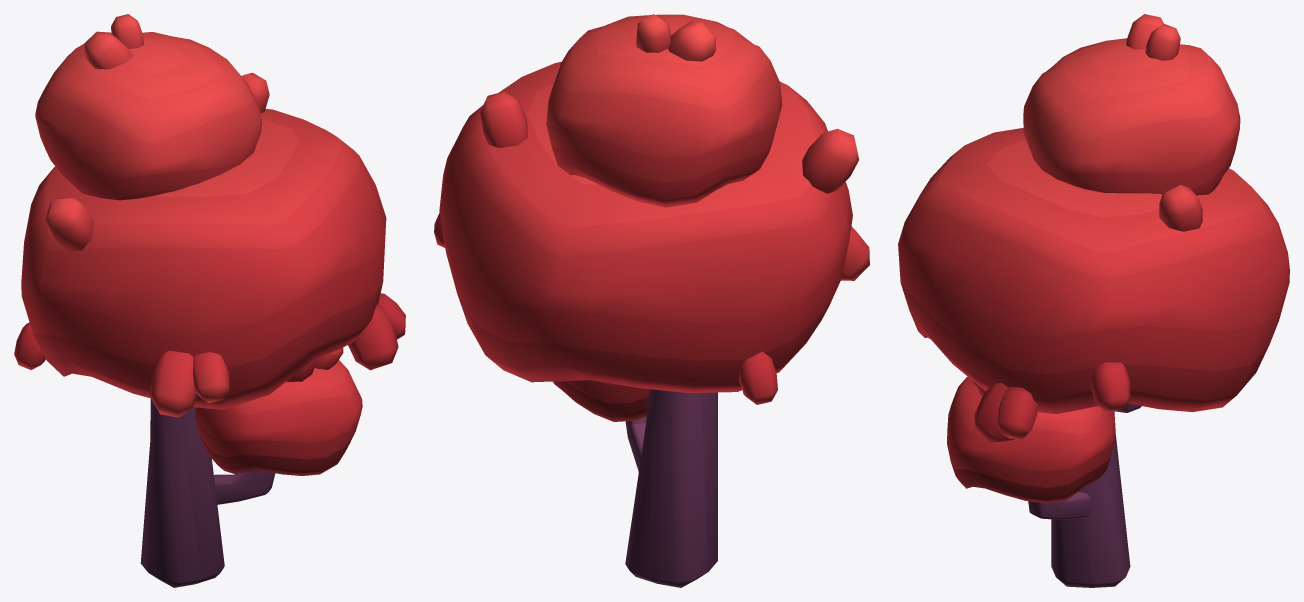
Rendered from grassland_tree_col3_2.fbx.
3 views of the same model, side by side, from view 1: azimuth 30°, elevation 25°; view 2: azimuth 150°, elevation 25°; view 3: azimuth 270°, elevation 25° (orthographic). The views are drawn at different scales.
Parts seen in each view (by area): view 1: grassland_tree_col3_2; view 2: grassland_tree_col3_2; view 3: grassland_tree_col3_2.
Part boxes in pixels (bbox=[...]): grassland_tree_col3_2: bbox=[14, 14, 405, 587]; grassland_tree_col3_2: bbox=[434, 14, 869, 587]; grassland_tree_col3_2: bbox=[898, 14, 1289, 587].
Size of the model in its own units: 428 by 620 by 407.
